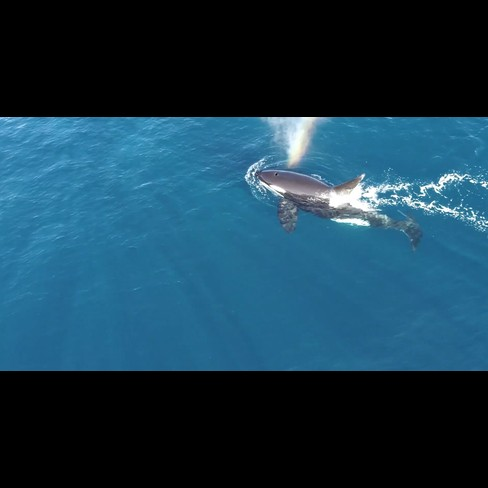orca: (241, 158, 436, 256)
